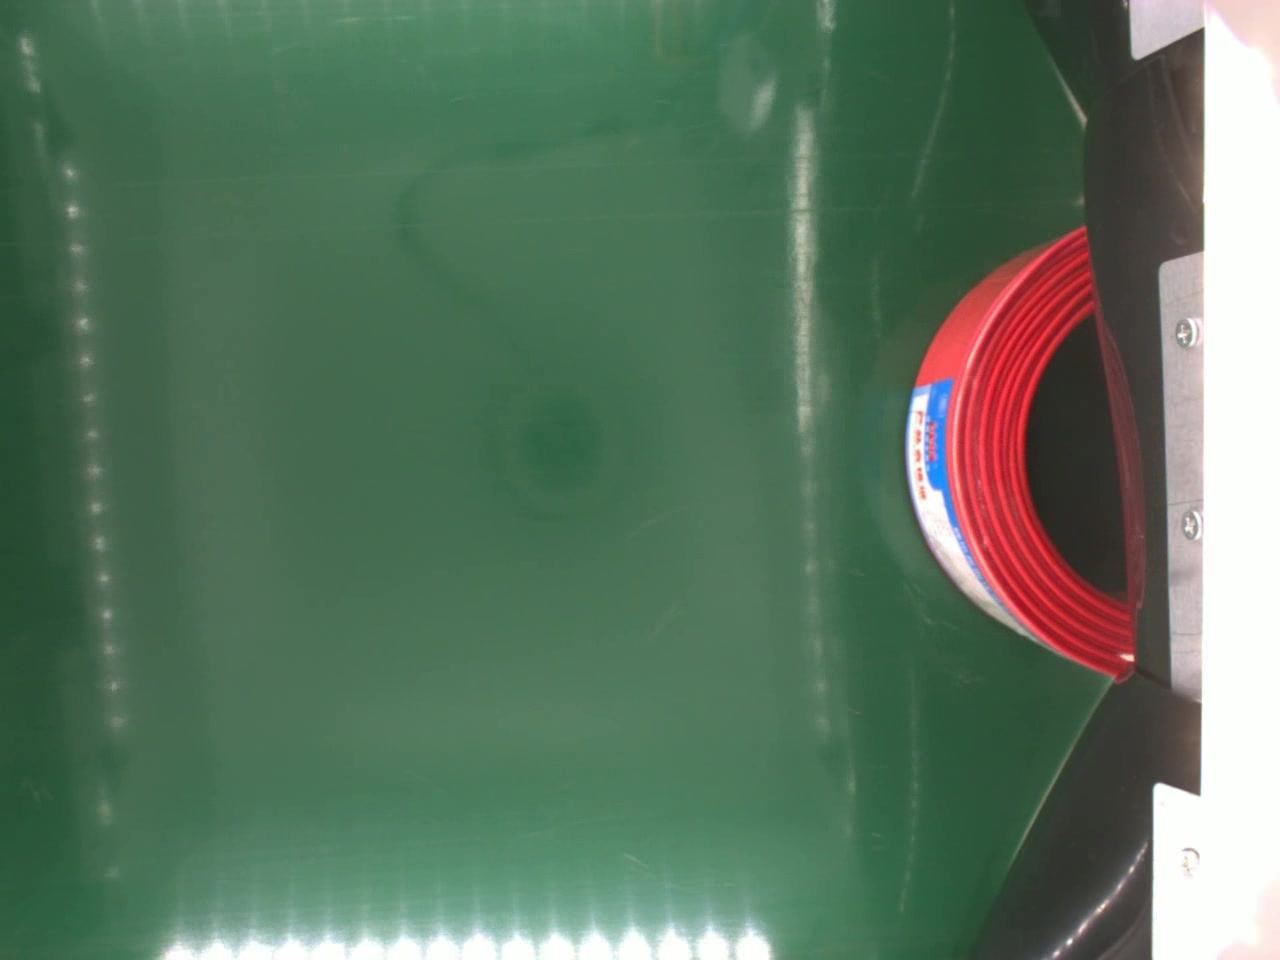red: (904, 224, 1137, 684)
